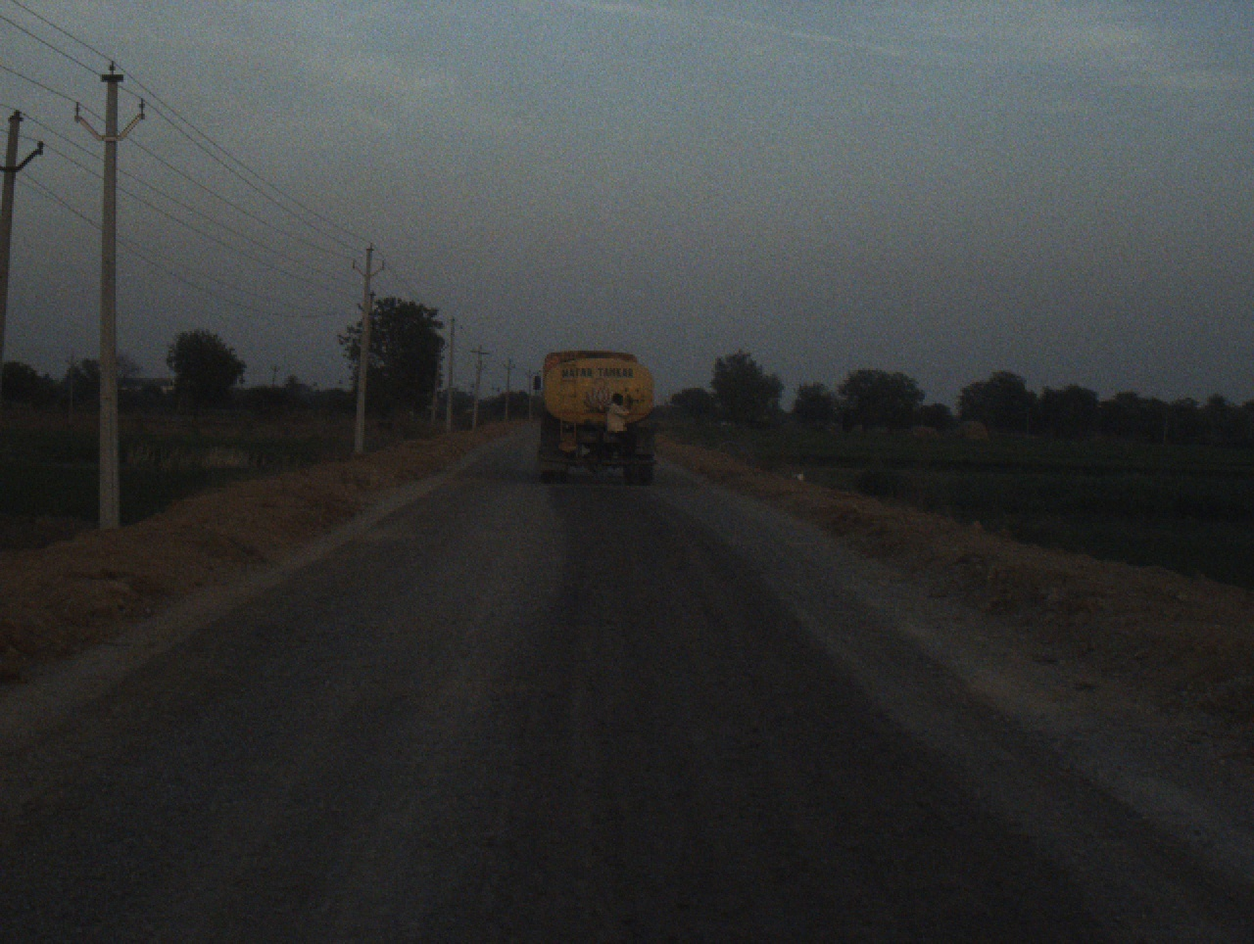rider: (608, 392, 637, 461)
truck: (524, 342, 658, 494)
